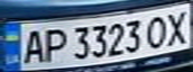2: (106, 19, 127, 56)
3: (124, 17, 148, 53), (87, 21, 109, 60), (69, 24, 90, 61)
A: (18, 26, 48, 65)
O: (142, 12, 172, 50)
P: (39, 26, 69, 63)
X: (160, 7, 193, 46)
